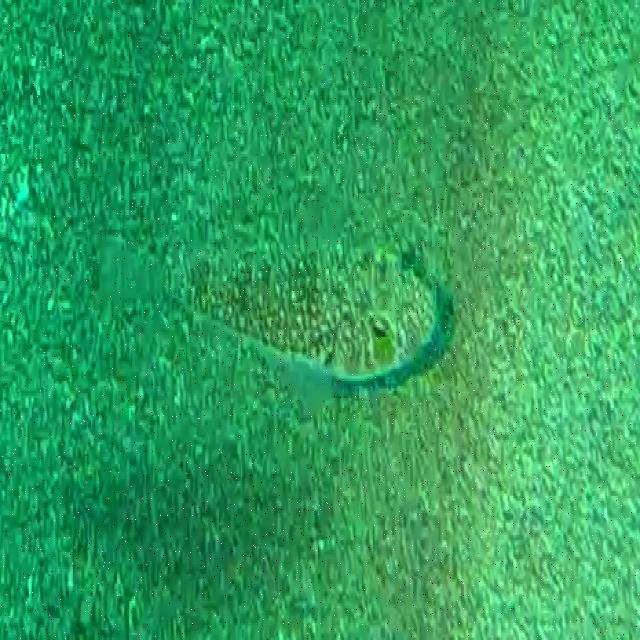Balik: (189, 247, 452, 395)
